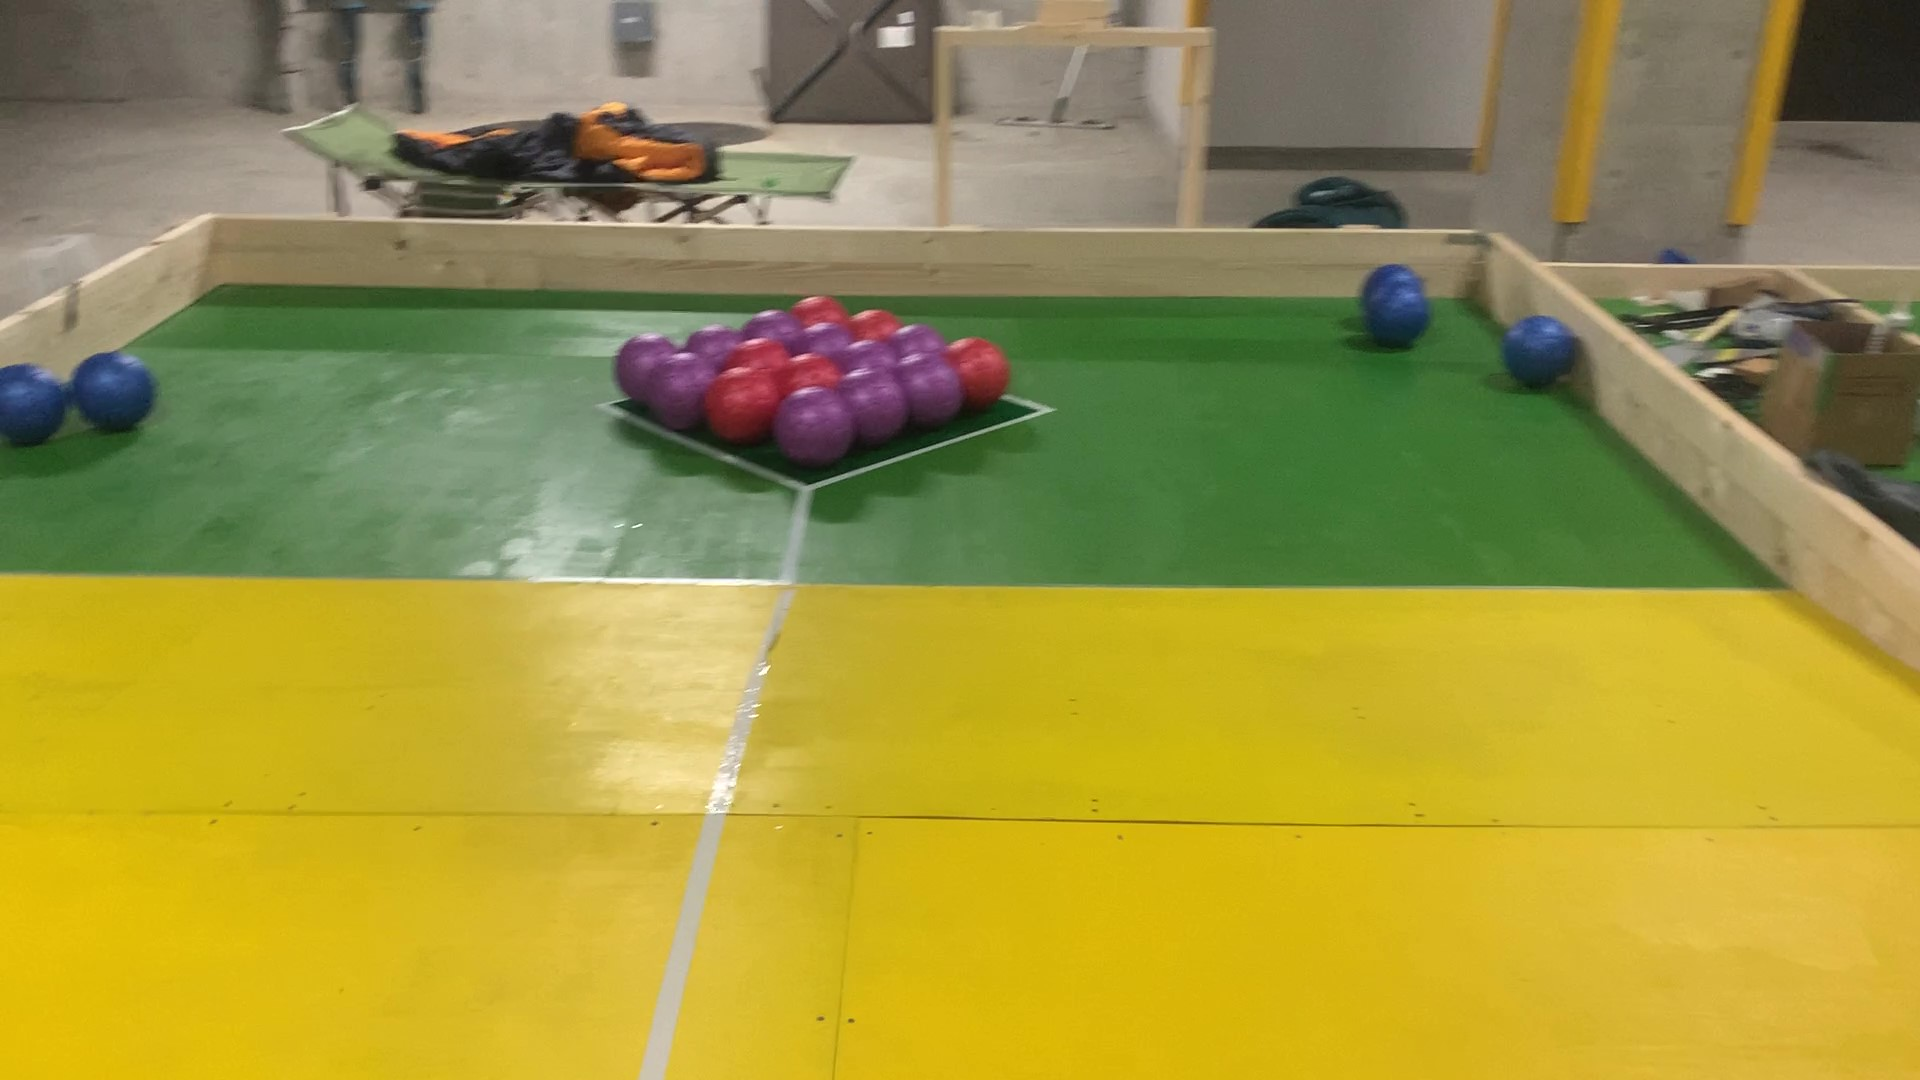blue: (3, 363, 60, 443), (1505, 315, 1566, 381), (83, 363, 144, 424), (1372, 284, 1421, 345), (1375, 265, 1419, 280)
purple: (781, 397, 851, 454), (904, 354, 955, 425), (854, 372, 900, 446), (655, 366, 698, 431), (614, 338, 647, 405), (848, 341, 894, 369), (693, 323, 738, 350), (799, 329, 839, 351), (906, 329, 937, 351), (753, 315, 785, 336)
red: (958, 333, 1015, 411), (708, 372, 771, 434), (797, 295, 848, 326), (849, 308, 904, 336), (788, 360, 835, 388), (739, 338, 781, 366)
